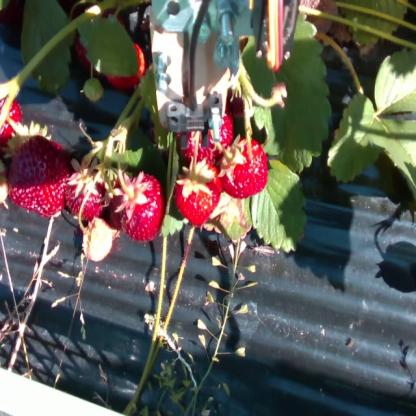ripe: (8, 136, 70, 212), (119, 172, 168, 242), (66, 161, 111, 220), (224, 140, 271, 193), (178, 172, 223, 222), (104, 40, 148, 81), (204, 112, 235, 152), (0, 97, 21, 154)
